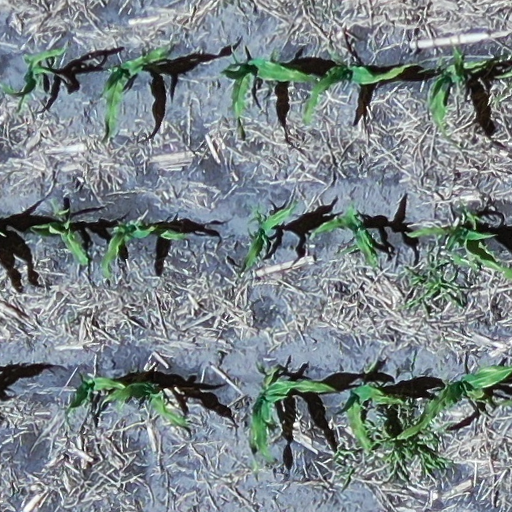planta: (194, 42, 317, 144), (301, 43, 421, 130), (98, 33, 181, 146), (426, 35, 503, 156), (249, 368, 334, 461), (233, 197, 298, 286), (100, 220, 193, 281), (343, 382, 415, 458), (310, 199, 381, 269), (31, 197, 94, 273), (100, 381, 190, 428), (67, 376, 126, 416)
